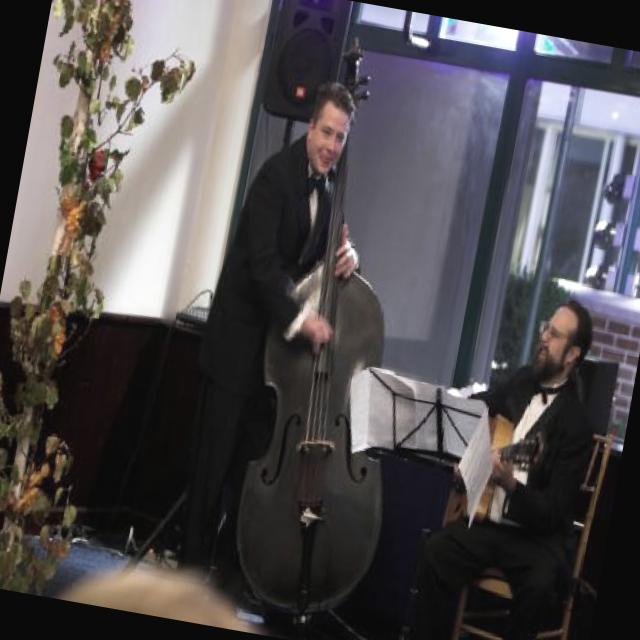Person: (154, 62, 392, 616), (435, 266, 628, 640)
